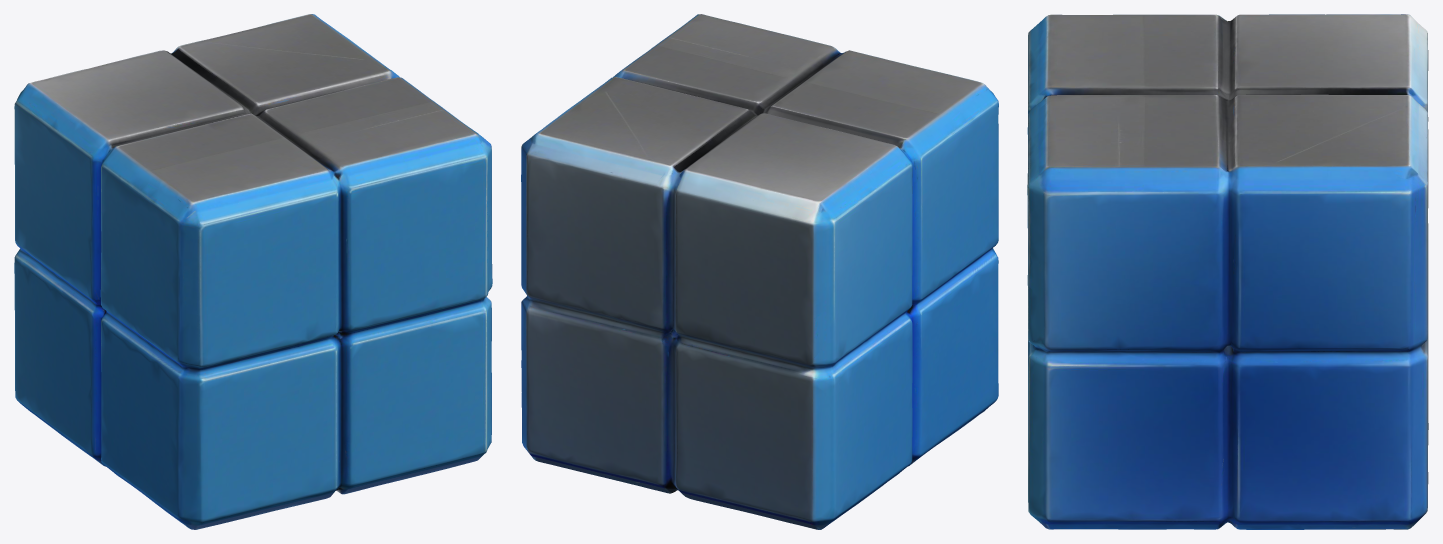
3 views of the same model, side by side, from view 1: azimuth 30°, elevation 25°; view 2: azimuth 150°, elevation 25°; view 3: azimuth 270°, elevation 25° (orthographic). The views are drawn at different scales.
Visible parts, largest first — view 1: Mesh1.0; view 2: Mesh1.0; view 3: Mesh1.0.
Boxes of the visible parts, <box> form: Mesh1.0: <box>14,14,492,529</box>; Mesh1.0: <box>521,14,998,529</box>; Mesh1.0: <box>1027,14,1428,529</box>.
Size of the model in its own units: 201 by 201 by 201.
1 material, 1 textured.
